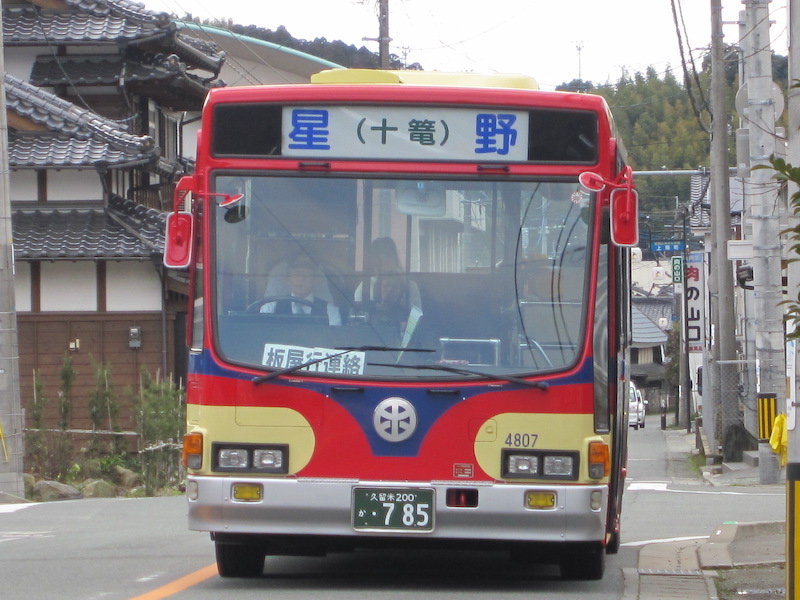destination: (280, 106, 528, 161)
